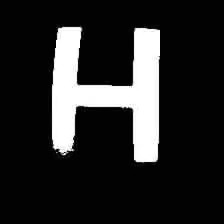LTR_H: (28, 7, 167, 175)
